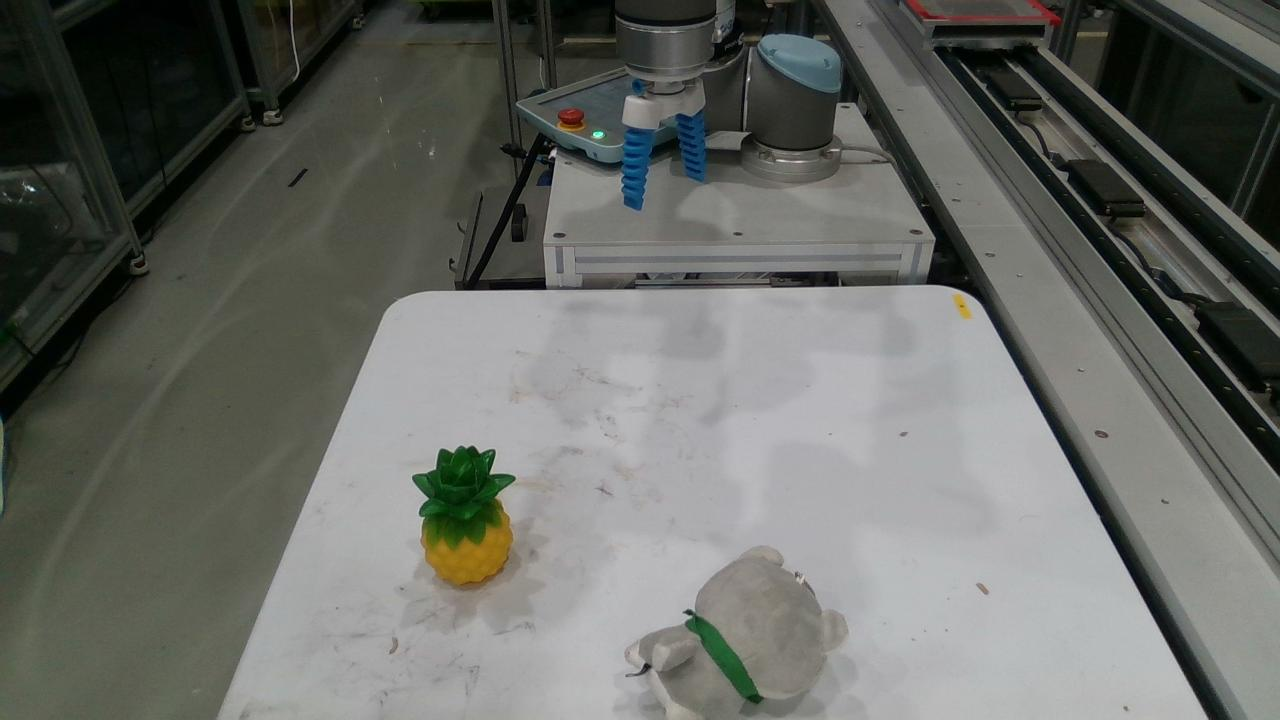UR5: (615, 0, 843, 182)
gripper_left: (621, 127, 655, 213)
gripper_right: (676, 109, 706, 182)
target: (624, 545, 848, 719), (411, 445, 517, 584)
